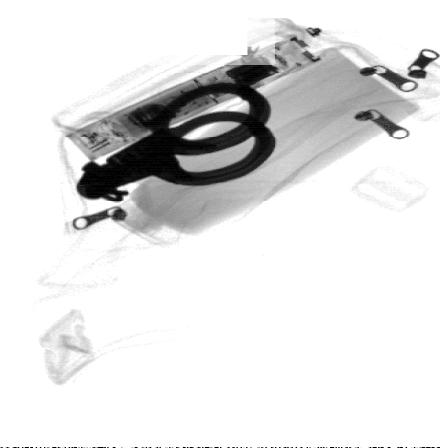Baton: (65, 35, 325, 163)
HandCuffs: (72, 79, 277, 204)
